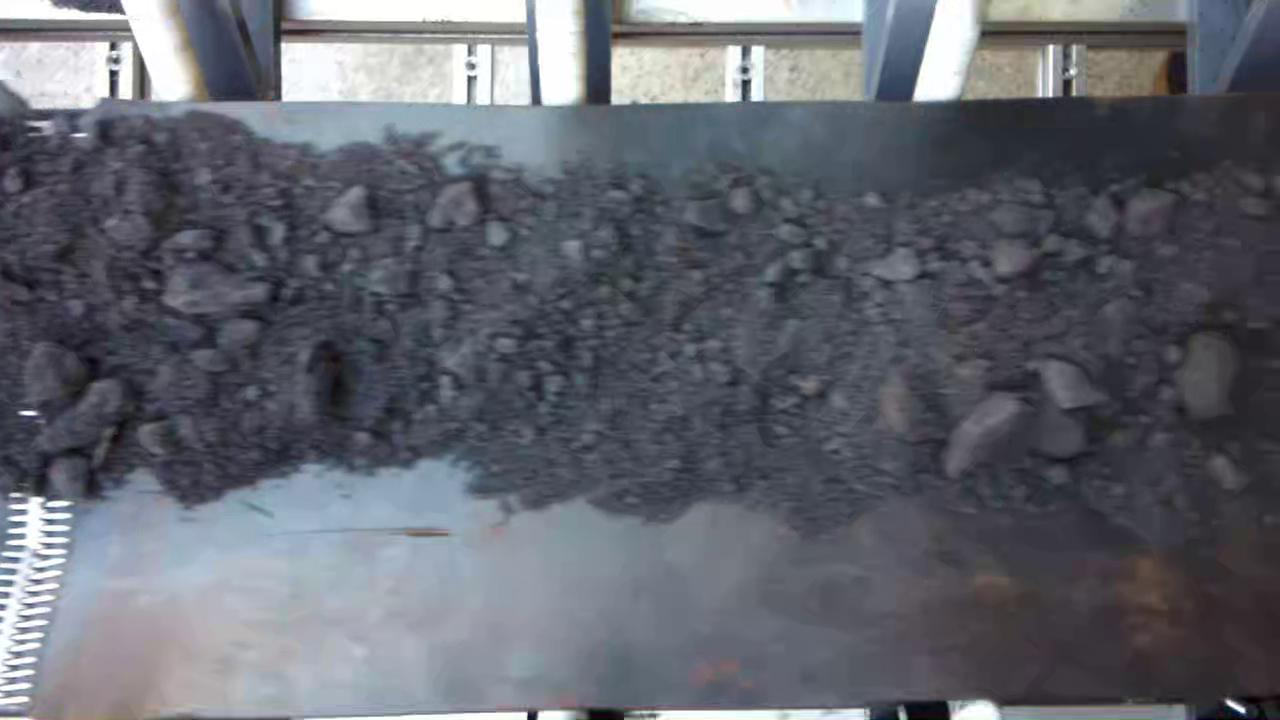conveyor: (5, 113, 1280, 695)
